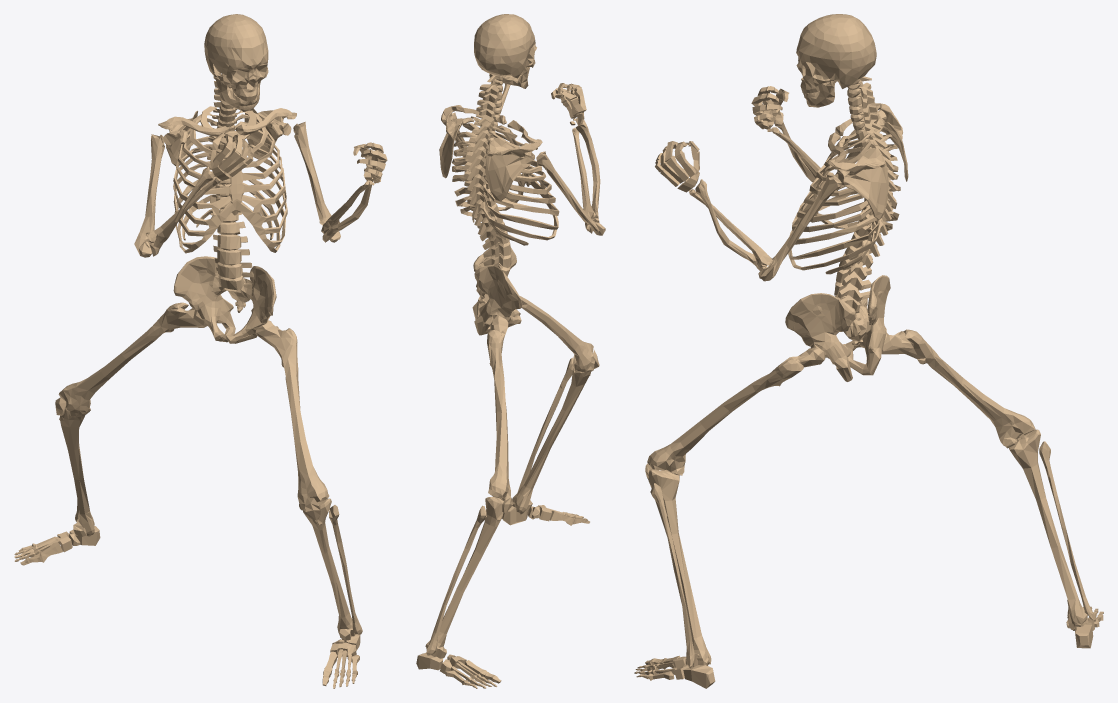
Rendered from skeleton-regged.dae.
3 views of the same model, side by side, from view 1: azimuth 30°, elevation 25°; view 2: azimuth 150°, elevation 25°; view 3: azimuth 270°, elevation 25° (orthographic). The views are drawn at different scales.
Parts seen in each view (by area): view 1: ___DUMMY_Group01; view 2: ___DUMMY_Group01; view 3: ___DUMMY_Group01.
Boxes of the visible parts, x1,y1,x2,y2 form: ___DUMMY_Group01: [14, 14, 387, 688]; ___DUMMY_Group01: [416, 14, 605, 688]; ___DUMMY_Group01: [634, 14, 1103, 688].
Bounding box in the file's own units: 0.1961 × 0.4062 × 0.6189.
